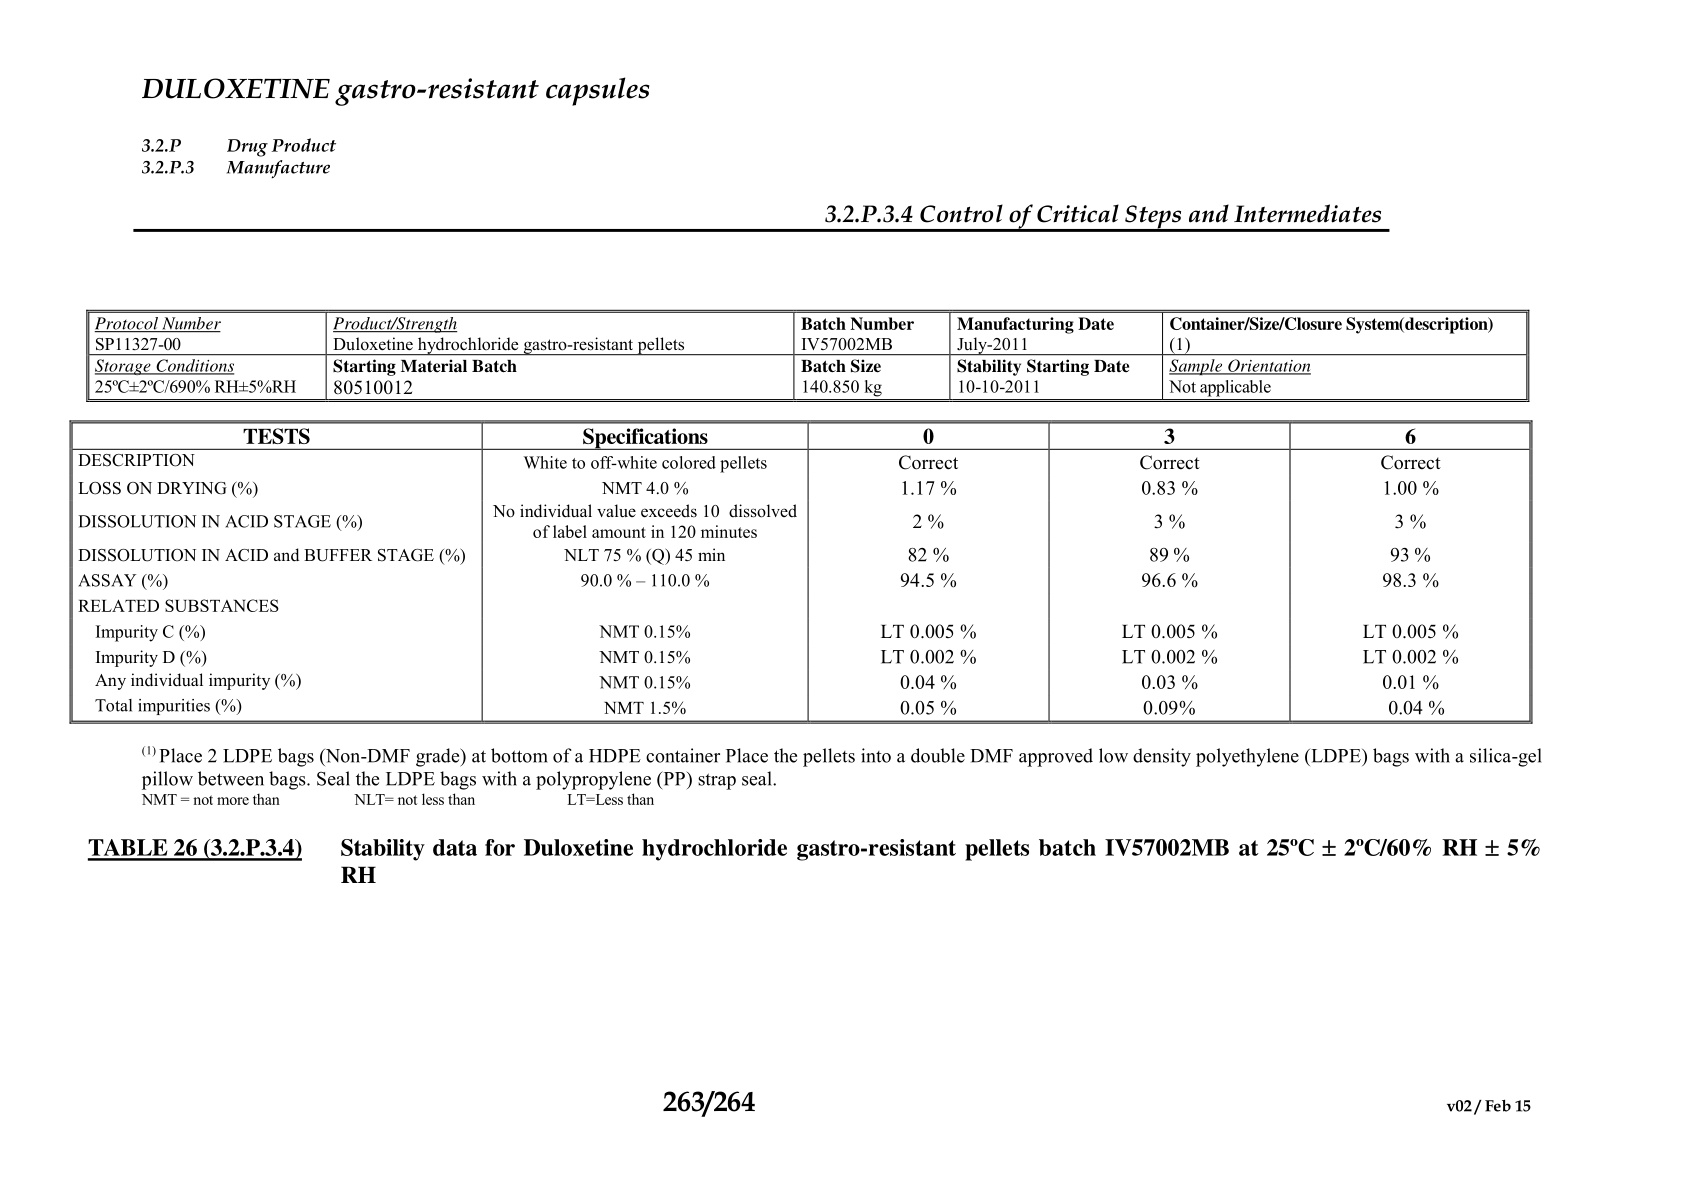full_lined: (67, 418, 1533, 724), (84, 308, 1530, 403)
